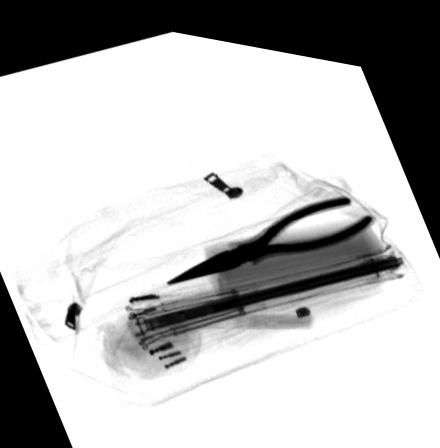Pliers: (164, 181, 378, 280)
